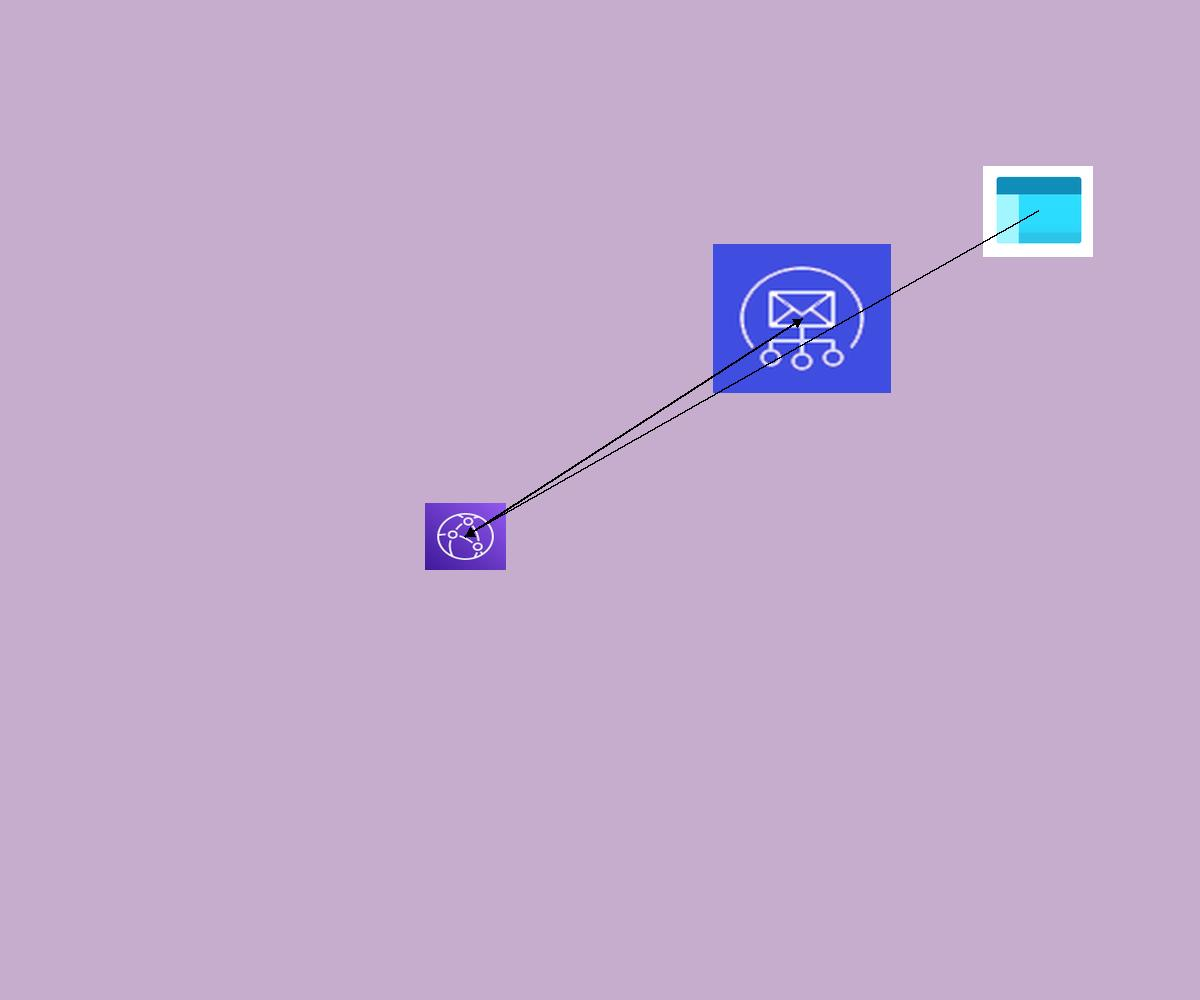AWS-CloudFront: (425, 503, 506, 570)
AWS-Simple-Email-Service: (713, 244, 891, 393)
Azure_management-portal: (983, 166, 1093, 257)
